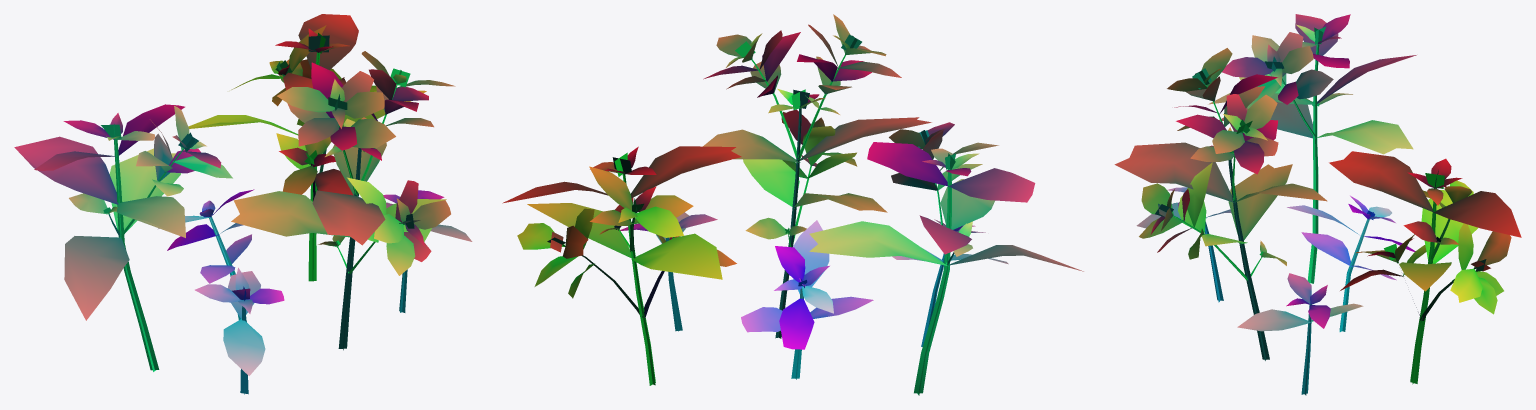
The model's file is Common_Hemp_Nettle_xh1kdfbqx_Low_xh1kdfbqx_VarG_LOD1.fbx.
3 views of the same model, side by side, from view 1: azimuth 30°, elevation 25°; view 2: azimuth 150°, elevation 25°; view 3: azimuth 270°, elevation 25° (orthographic). The views are drawn at different scales.
Parts seen in each view (by area): view 1: _hxye_VarG_LOD3; view 2: _hxye_VarG_LOD3; view 3: _hxye_VarG_LOD3.
Part boxes in pixels (bbox=[...]): _hxye_VarG_LOD3: bbox=[14, 14, 472, 394]; _hxye_VarG_LOD3: bbox=[502, 14, 1083, 395]; _hxye_VarG_LOD3: bbox=[1114, 14, 1521, 395].
Bounding box in the file's own units: 145 × 92.23 × 121.
